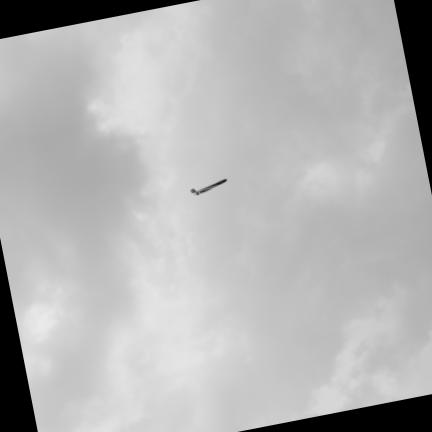Shahed: (192, 179, 226, 194)
